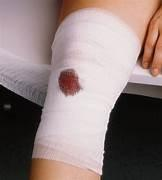Bandage: (32, 8, 140, 173), (0, 0, 60, 64)
